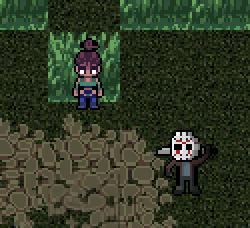Jason: (154, 122, 214, 200)
Slow: (48, 32, 118, 103), (120, 0, 190, 28), (190, 0, 250, 29), (0, 0, 46, 29)
Victim: (70, 38, 106, 113)
